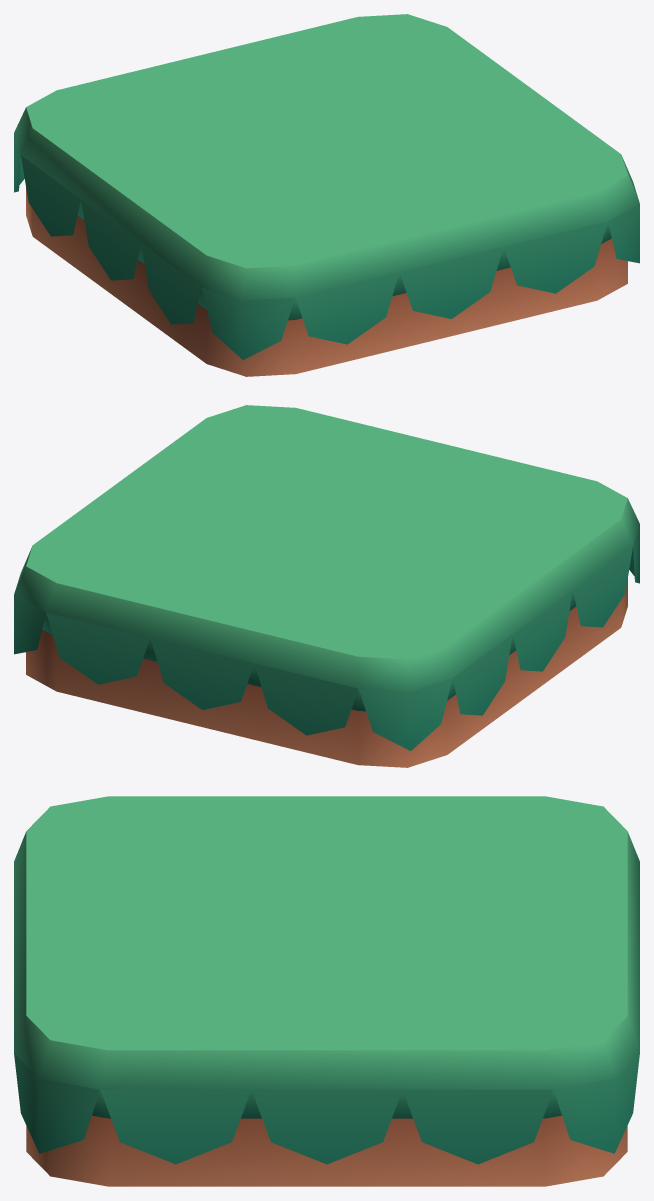
File: platformer-block-grass-overhang-low-large.glb
The picture shows the model from 3 angles, top to bottom: view 1: azimuth 30°, elevation 25°; view 2: azimuth 150°, elevation 25°; view 3: azimuth 270°, elevation 25°; orthographic projection. The views are drawn at different scales.
Parts seen in each view (by area): view 1: block-grass-overhang-low-large; view 2: block-grass-overhang-low-large; view 3: block-grass-overhang-low-large.
Boxes of the visible parts, x1,y1,x2,y2 form: block-grass-overhang-low-large: (14,14,639,376); block-grass-overhang-low-large: (14,405,639,767); block-grass-overhang-low-large: (14,796,639,1186).
Size of the model in its own units: 2.08 by 0.5 by 2.08.
Materials: 1 (1 with a texture image).
